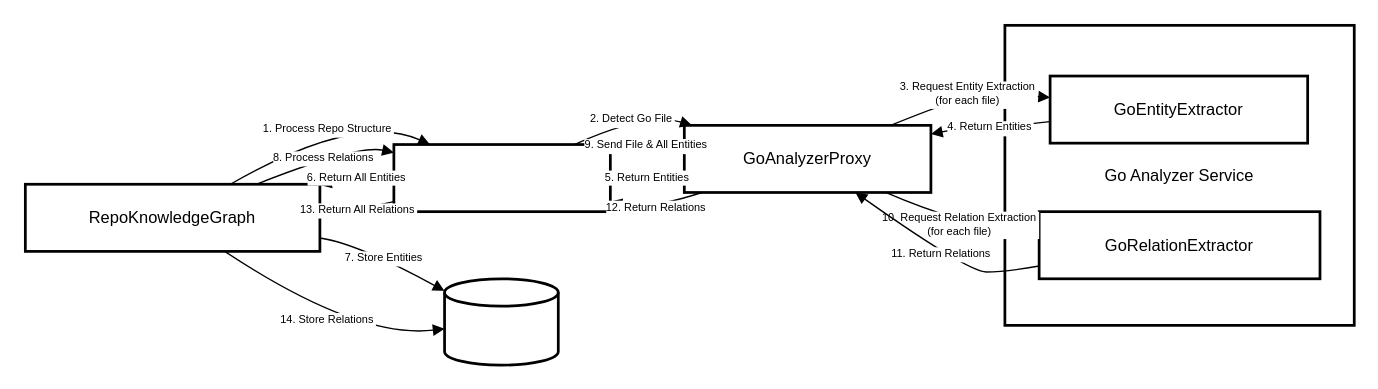
Image size: 1378x389. Some labels were removed from this diagram. The centre of each missing label's shape, as x and y in pixels:
"ArangoDB" belongs at [501,321].
"CodeAnalyzer" belongs at [501,177].
